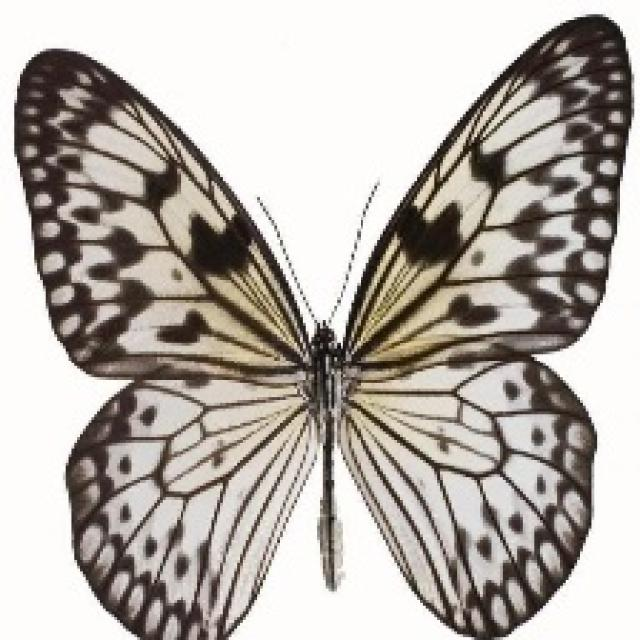butterfly: (15, 13, 632, 638)
